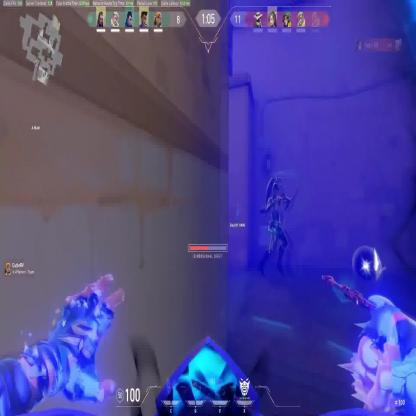enemy: (258, 175, 291, 280)
enemy_head: (272, 182, 279, 197)
